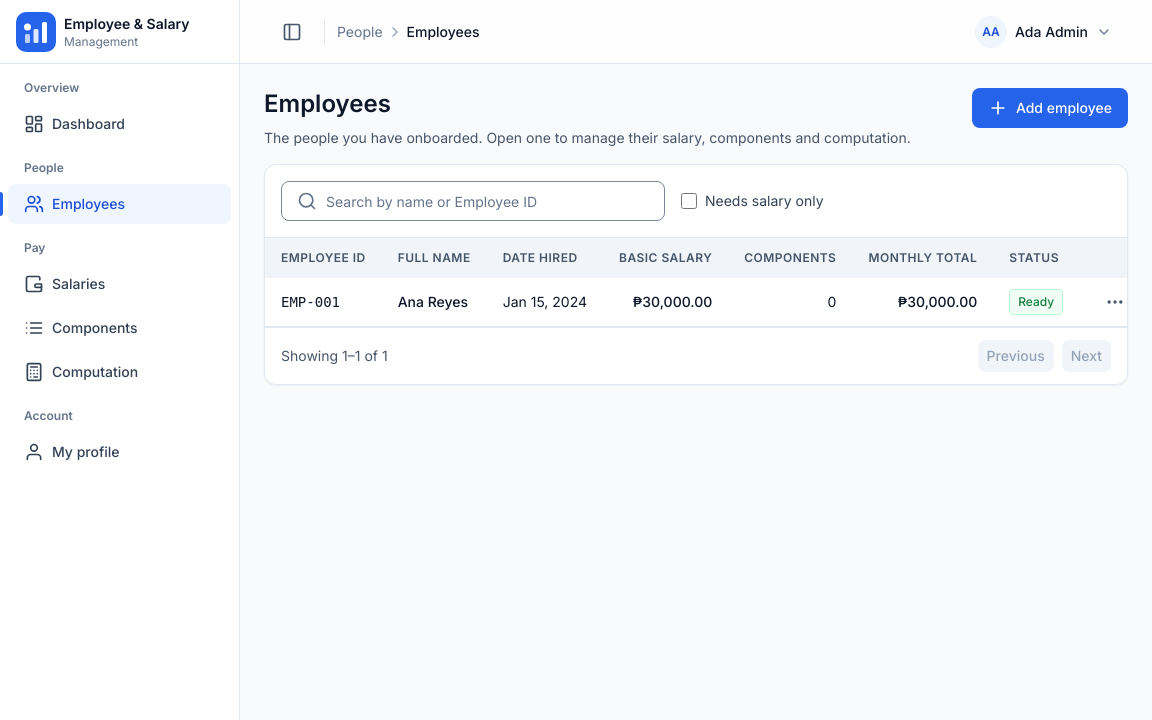
Test: Employees table › the Needs salary only filter › says so when everyone has a salary, and clears the filter from there
expect the table named "Employees" is shown: met, box [265, 238, 1127, 326]
Click the checkbox labelled "Needs salary only": point(689, 201) [681, 193, 697, 209]
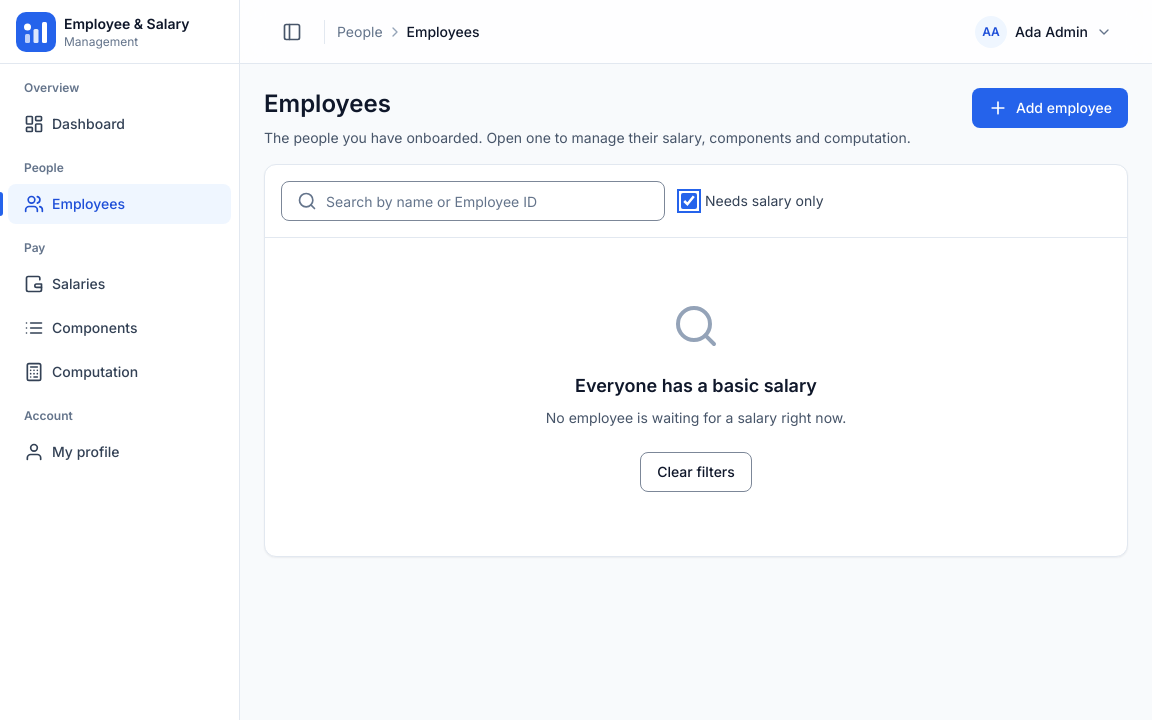
expect the heading "Everyone has a basic salary" is shown: met, box [575, 372, 817, 400]
Click the button "Clear filters": point(696, 472) [640, 452, 752, 492]
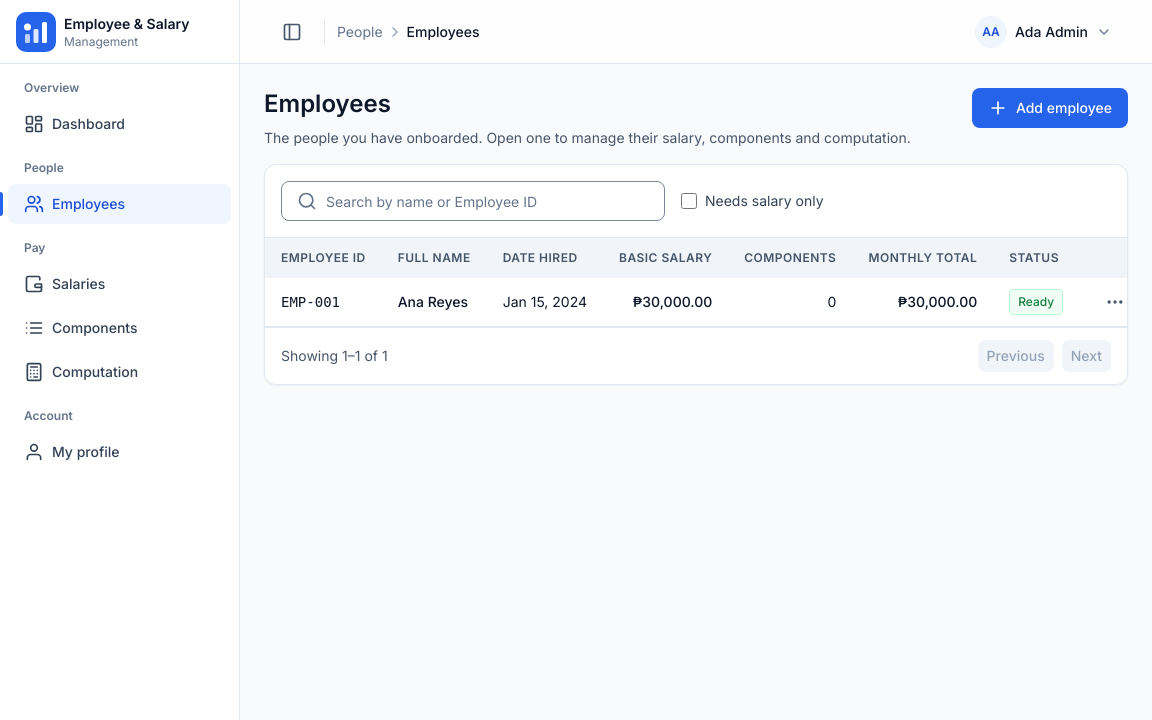
expect the table named "Employees" is shown: met, box [265, 238, 1127, 326]
